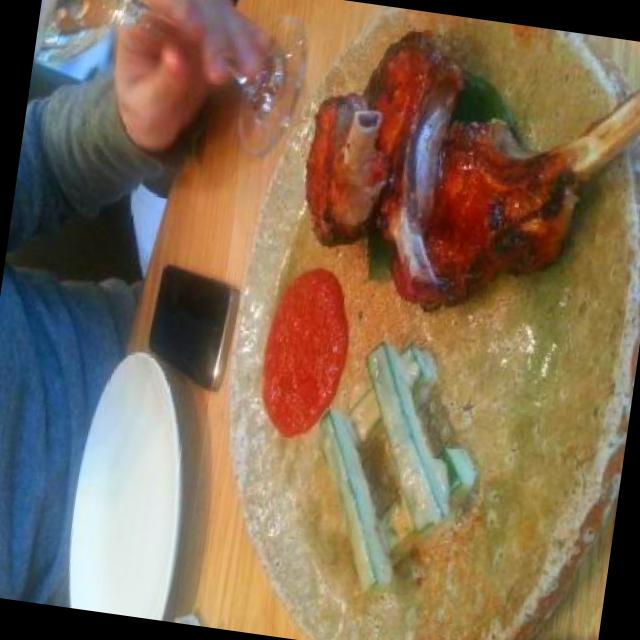Person: (0, 0, 299, 625)
